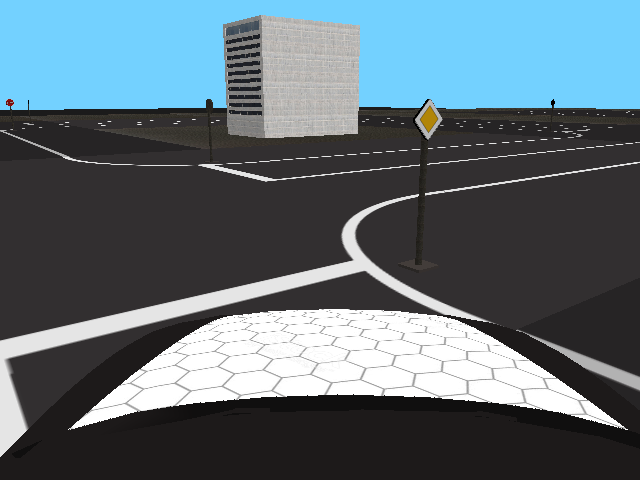yellow_light: (412, 98, 442, 140)
